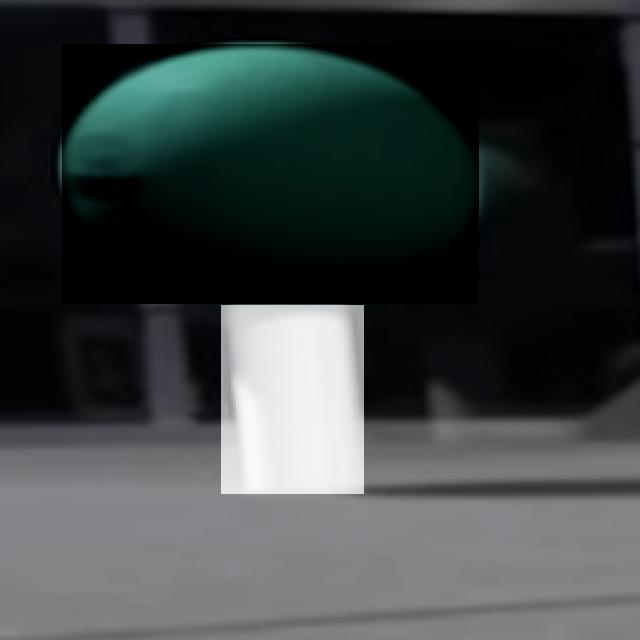Algae: (62, 44, 479, 304)
Coral: (221, 305, 364, 494)
